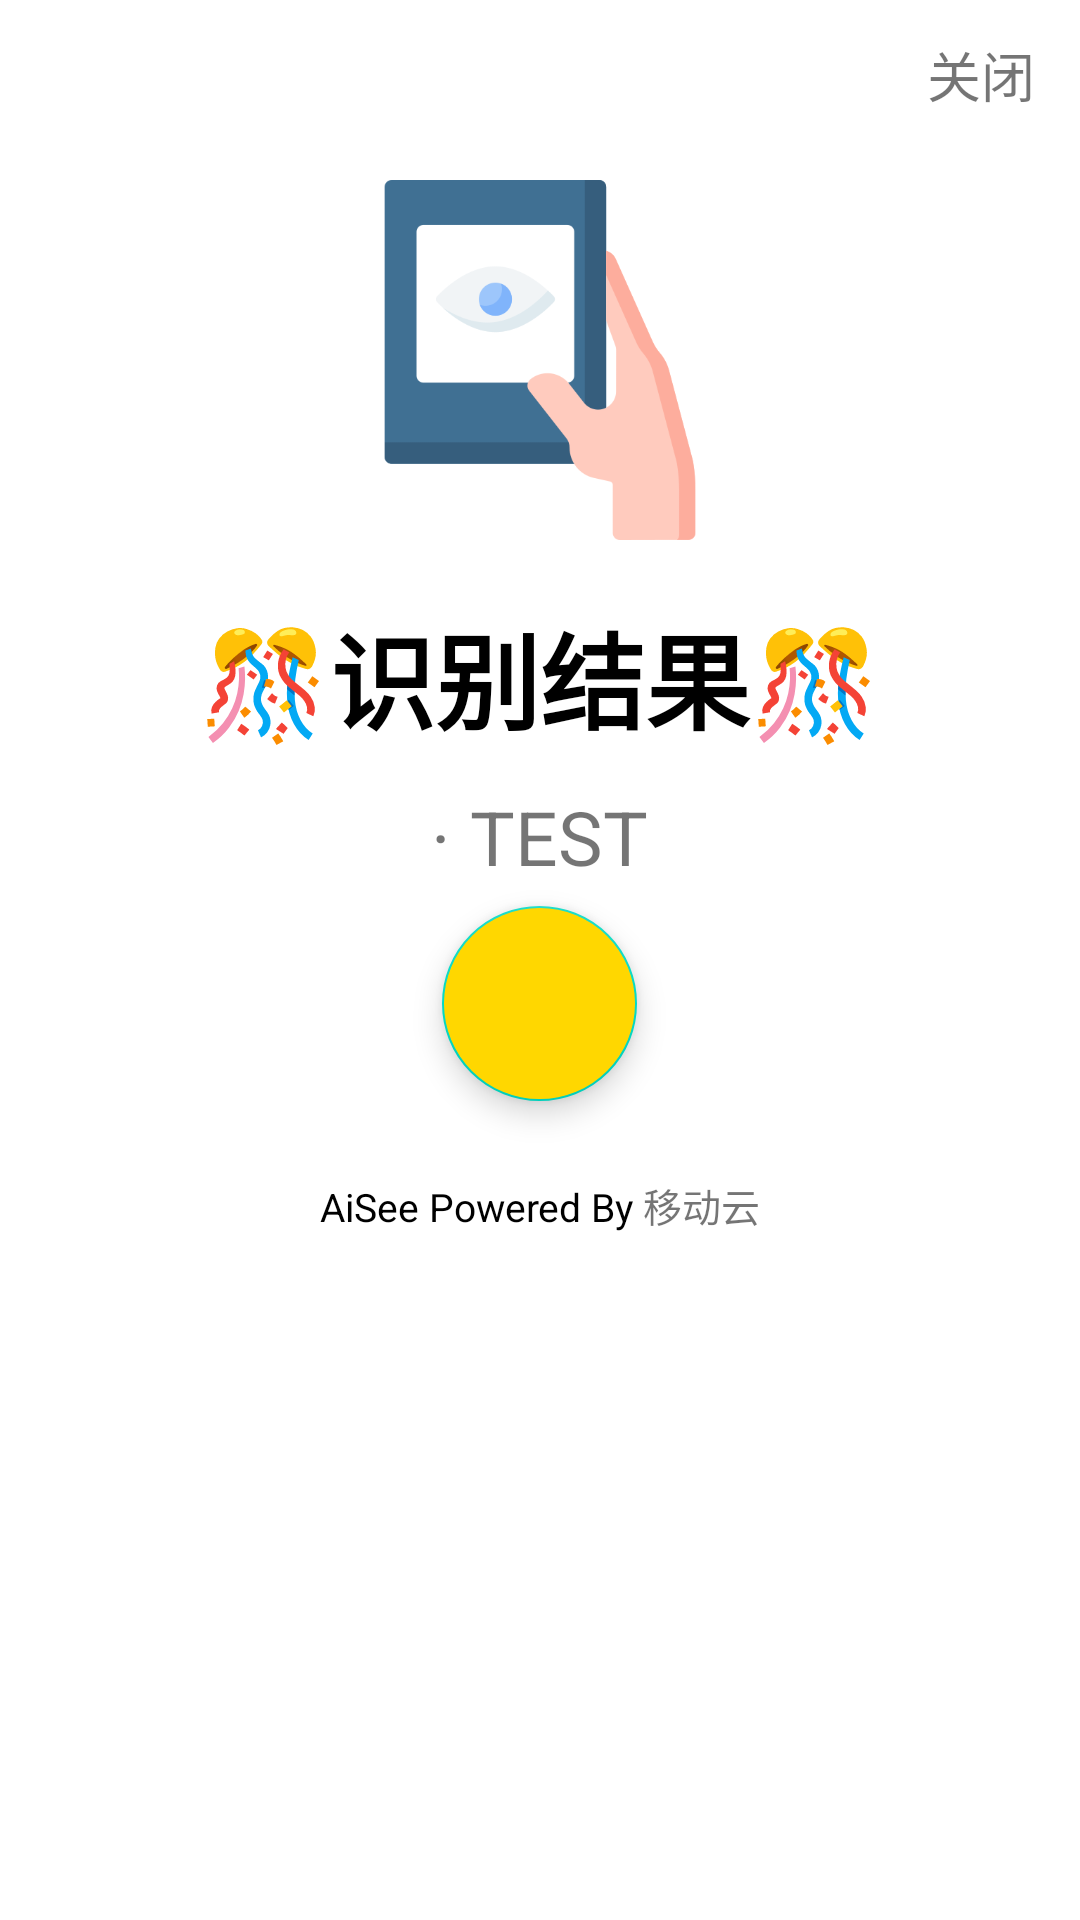

Screen size 1080px×1920px. Icon name, then its center in pixels as [x,y]:
vision: [540,360]
